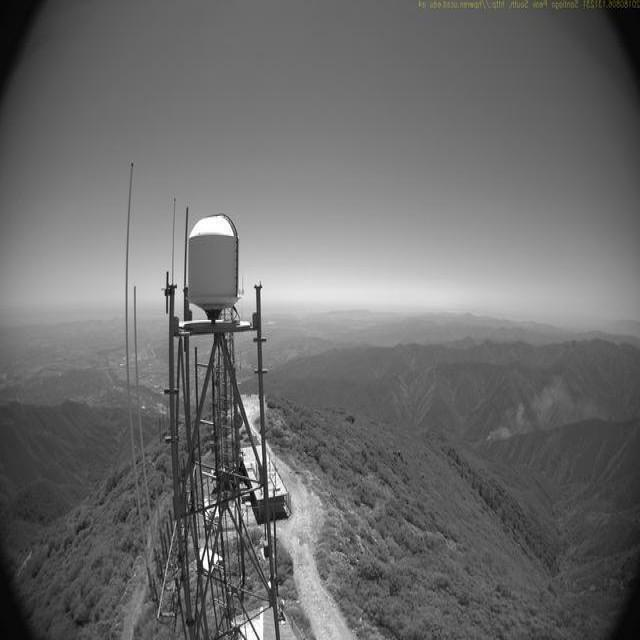Smoke: (484, 361, 623, 444)
